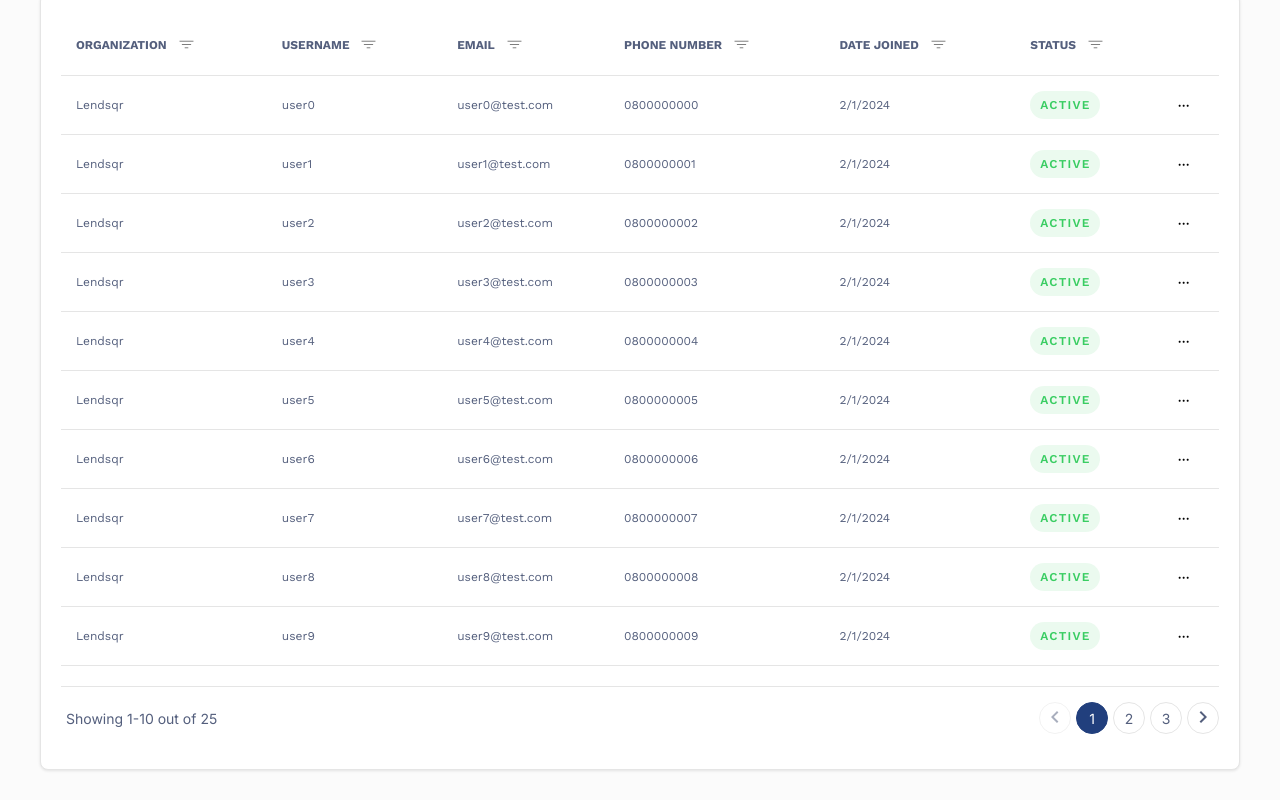
UserPage › paginates users
(page scrolled)
Expected: the text "user0" is shown, [267,76,442,134]
Click the button "2": (1129, 718) [1113,702,1145,734]
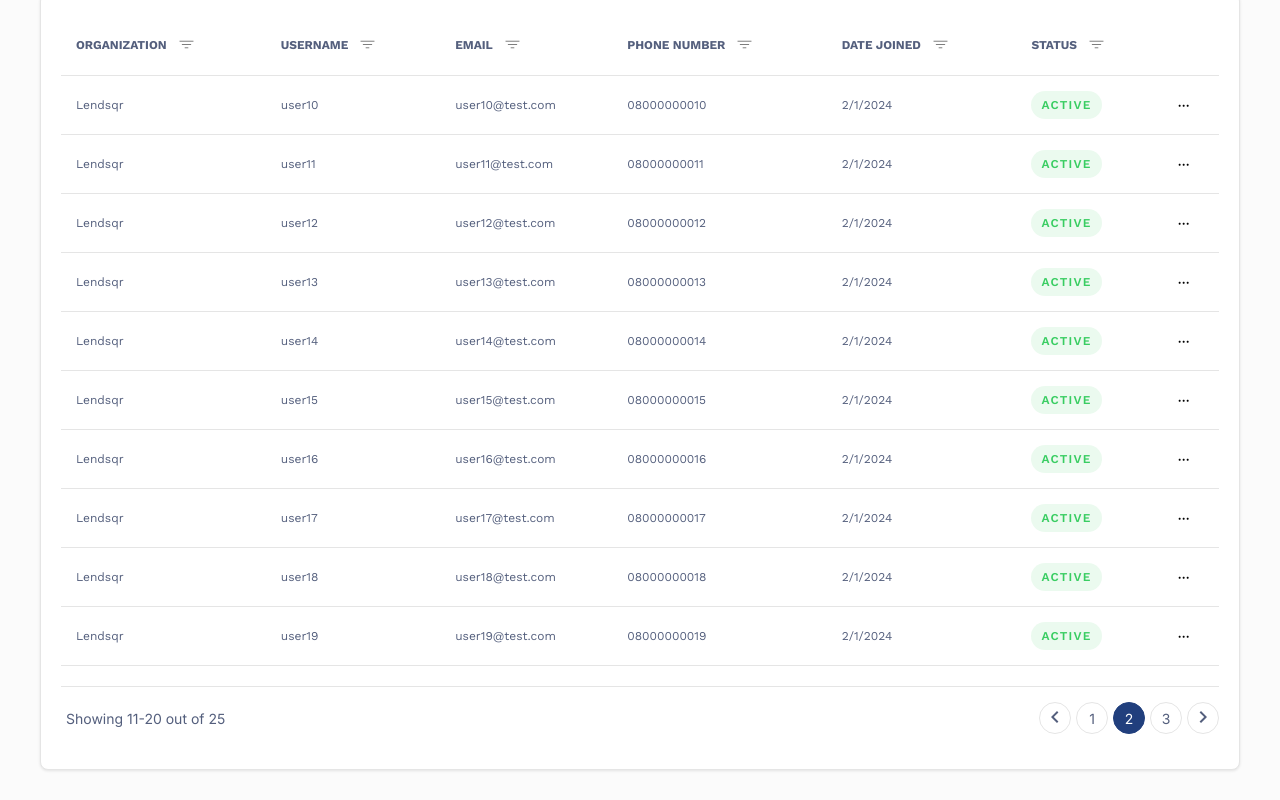
Now the cell "user10" is shown, box [266,76,440,134]
